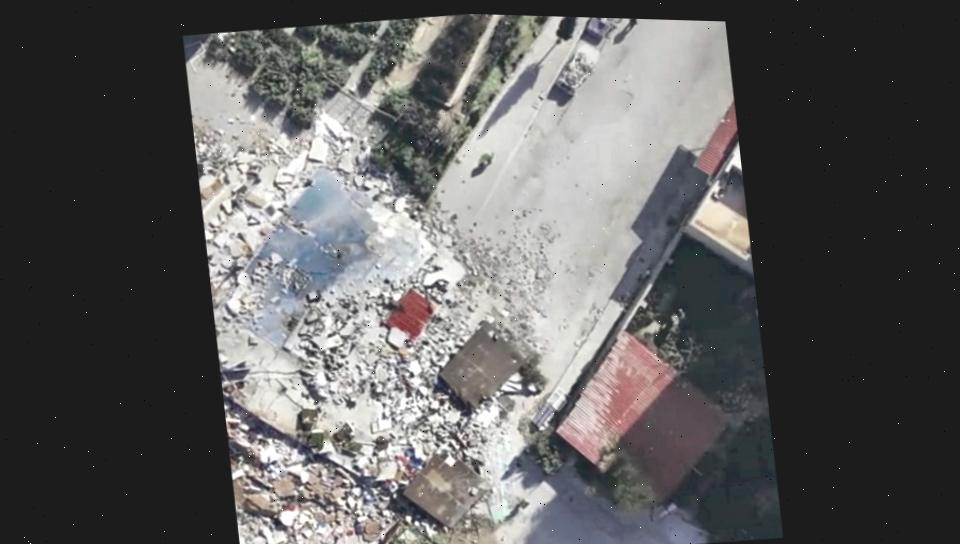kapali: (279, 165, 634, 544)
